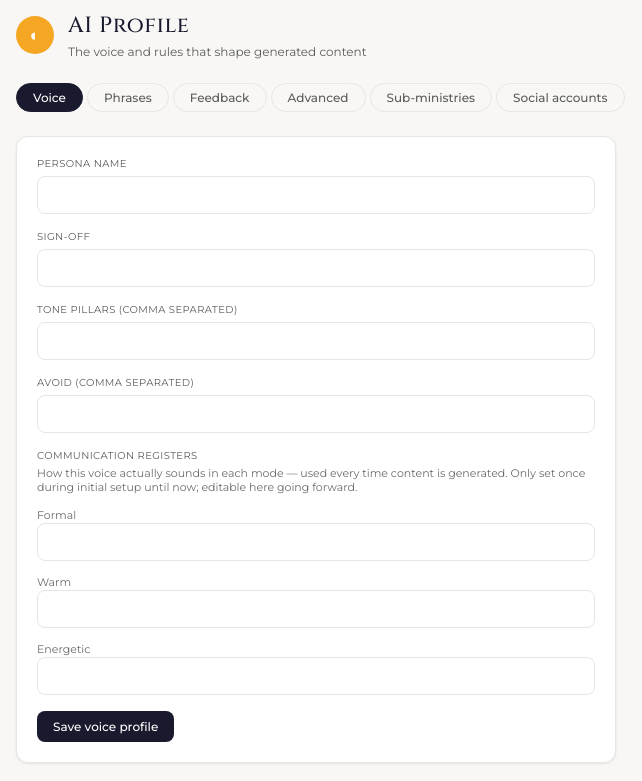
Test: shows aggregate counts next to each sub-ministry, without exposing individual records
expect the button "Voice" is shown: met, box [16,83,83,112]
Click the button "Sub-ministries" at [431, 98], box [370,83,492,112]
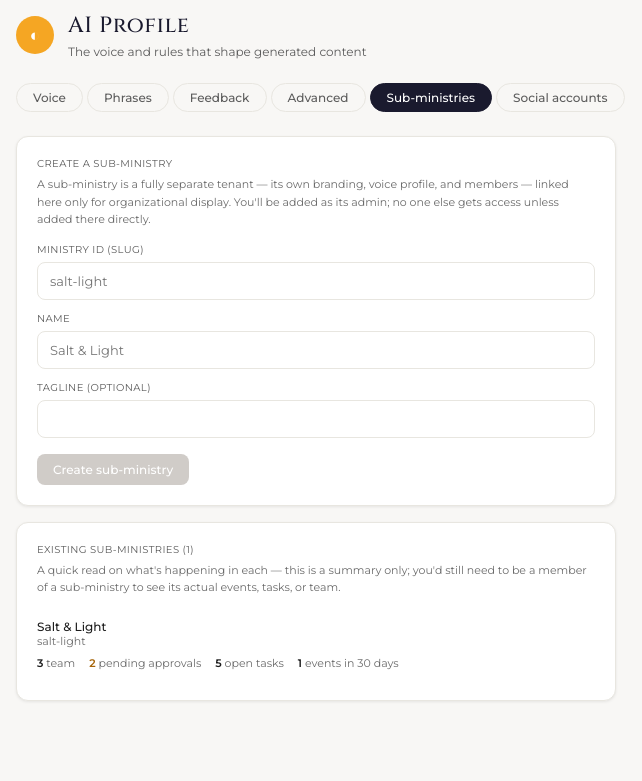
expect the text "Salt & Light" is shown: met, box [37,619,106,634]
expect the text "3" is shown: met, box [37,656,43,670]
expect the text "team" is shown: met, box [46,656,75,670]
